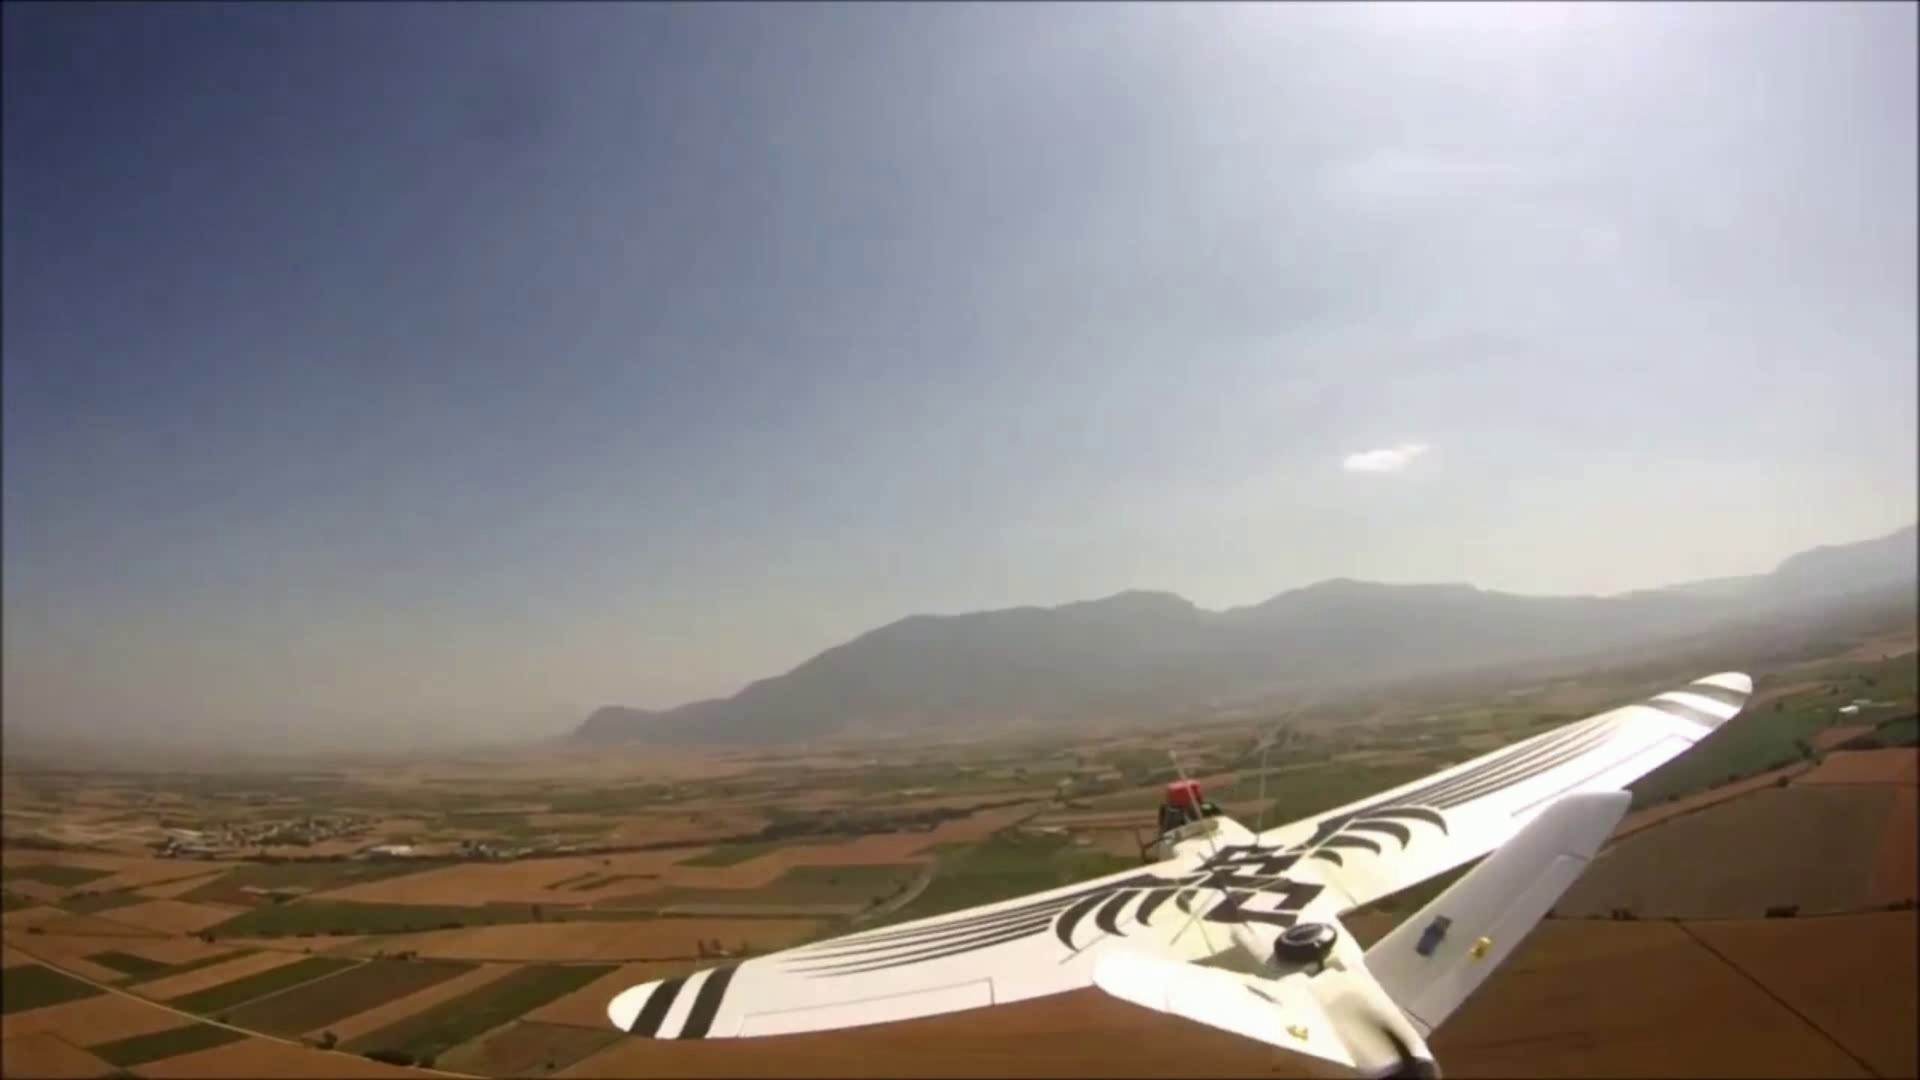airplane: (555, 659, 1884, 1067)
